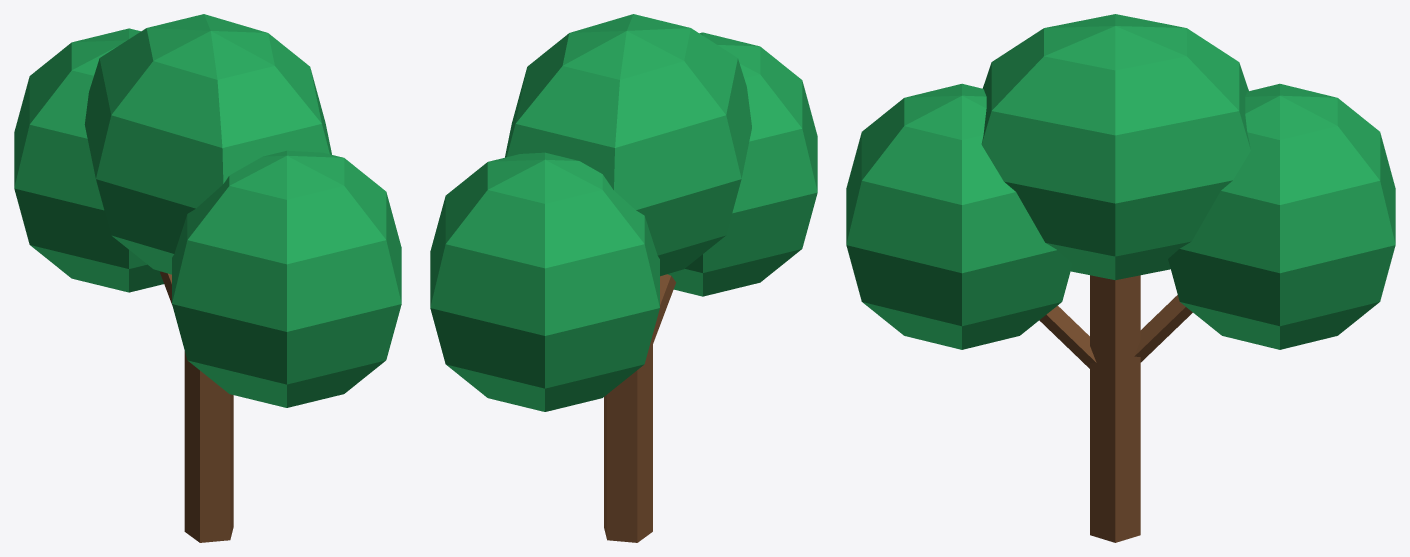
File: geo_Tree_01.fbx
3 renders of one model, left to right at view 1: azimuth 30°, elevation 25°; view 2: azimuth 150°, elevation 25°; view 3: azimuth 270°, elevation 25°, orthographic.
Visible parts, largest first — view 1: geo_TreeTop_03, geo_TreeTop_01, geo_TreeTop_04, geo_treeTrunk_01; view 2: geo_TreeTop_04, geo_TreeTop_01, geo_TreeTop_03, geo_treeTrunk_01, geo_treeBranch_01; view 3: geo_TreeTop_01, geo_TreeTop_04, geo_TreeTop_03, geo_treeTrunk_01, geo_treeBranch_02, geo_treeBranch_01.
Boxes of the visible parts, <box> form: geo_TreeTop_03: <box>172,150,401,407</box>; geo_TreeTop_01: <box>84,14,331,274</box>; geo_TreeTop_04: <box>14,28,163,292</box>; geo_treeTrunk_01: <box>184,351,233,542</box>; geo_TreeTop_04: <box>430,152,659,411</box>; geo_TreeTop_01: <box>505,14,751,276</box>; geo_TreeTop_03: <box>667,32,817,296</box>; geo_treeTrunk_01: <box>604,334,652,542</box>; geo_treeBranch_01: <box>653,274,675,343</box>; geo_TreeTop_01: <box>981,14,1250,280</box>; geo_TreeTop_04: <box>1168,83,1395,349</box>; geo_TreeTop_03: <box>846,83,1072,349</box>; geo_treeTrunk_01: <box>1090,275,1140,542</box>; geo_treeBranch_02: <box>1134,295,1192,362</box>; geo_treeBranch_01: <box>1039,305,1096,368</box>.
Size of the model in its own units: 127 by 266 by 261.
